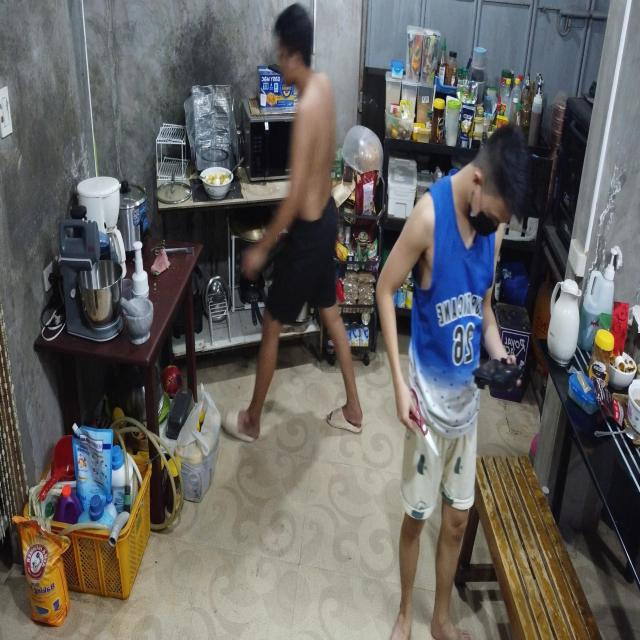scissor: (407, 388, 439, 455)
